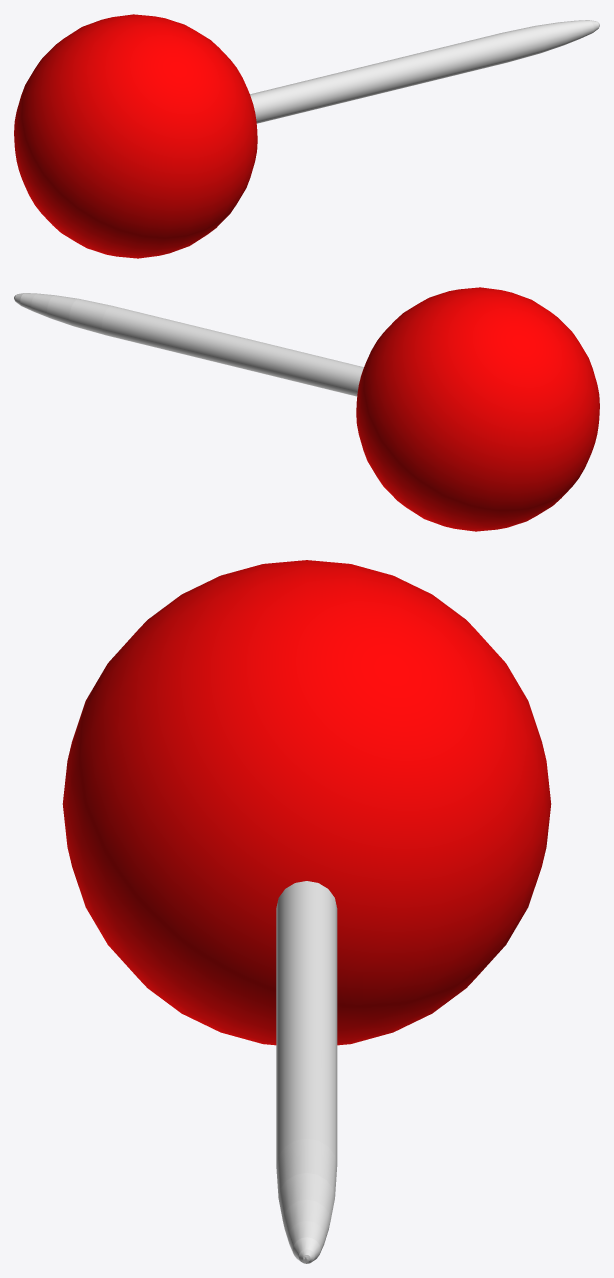
3 renders of one model, top to bottom at view 1: azimuth 30°, elevation 25°; view 2: azimuth 150°, elevation 25°; view 3: azimuth 270°, elevation 25°, orthographic. The views are drawn at different scales.
Parts seen in each view (by area): view 1: Line006; view 2: Line006; view 3: Line006.
Part boxes in pixels (box(x1,y1,x2,y2)): Line006: box(14, 14, 599, 258); Line006: box(14, 287, 599, 531); Line006: box(62, 560, 551, 1263).
Bounding box in the file's own units: 0.0274 × 0.0102 × 0.0102.
